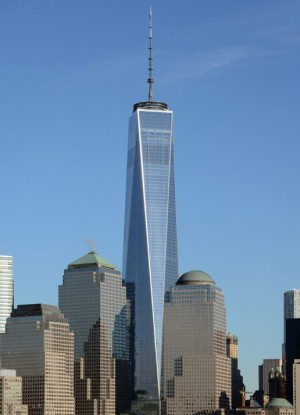wtc: (124, 10, 177, 392)
